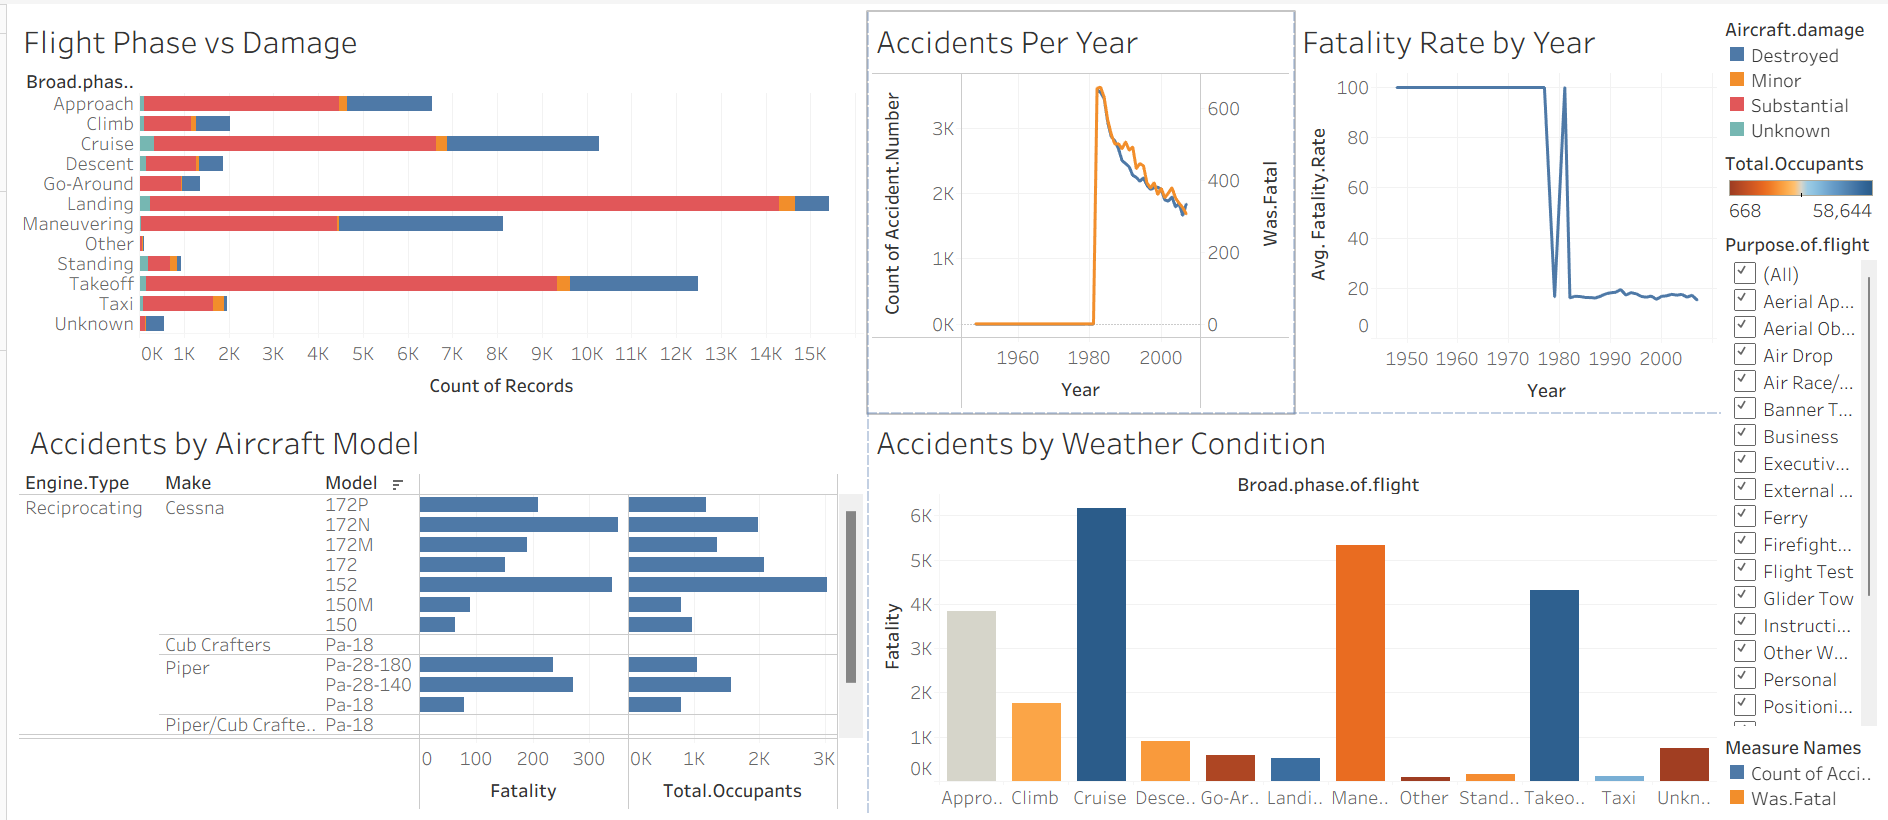

Layout of this report page (visuals, bound fields, positions):
{"tool":"tableau","page":{"name":"Overlook of my Data","canvas":[1000,1000],"units":"permille","ordinal":0},"visuals":[{"type":"worksheet","title":"Flight Phase vs Damage","mark":"Automatic","rows":["Broad.phase.of.flight"],"cols":["Calculation_2117536285228191744"],"box":[4.2,9.8,453.2,490.2]},{"type":"worksheet","title":"Accidents Per Year","mark":"Automatic","rows":["Accident.Number","Was.Fatal"],"cols":["Year"],"box":[457.5,9.8,226.6,490.2]},{"type":"worksheet","title":"Fatality Rate by Year","mark":"Automatic","rows":["Fatality.Rate"],"cols":["Year"],"box":[684.1,9.8,226.6,490.2]},{"type":"legend","title":"Flight Phase vs Damage","param":"[federated.1dlo7io1ed03wz16myot40yxtwt1].[none:Aircraft.damage:nk]","box":[910.7,9.8,85,163.8]},{"type":"legend","title":"Fatality at each Broad Phase of Flight","param":"[federated.1dlo7io1ed03wz16myot40yxtwt1].[sum:Total.Occupants:qk]","box":[910.7,173.6,85,33]},{"type":"filter","title":"Accidents Per Year","param":"[federated.1dlo7io1ed03wz16myot40yxtwt1].[none:Purpose.of.flight:nk]","box":[910.7,206.6,85,680.9]},{"type":"worksheet","title":" Accidents by Aircraft Model","mark":"Automatic","rows":["Engine.Type","Make","Model"],"cols":["Fatality","Total.Occupants"],"box":[4.2,500,453.2,490.2]},{"type":"worksheet","title":"Fatality at each Broad Phase of Flight","mark":"Shape","rows":["Fatality"],"cols":["Broad.phase.of.flight"],"box":[457.5,500,453.2,490.2]},{"type":"legend","title":"Accidents Per Year","param":"[federated.1dlo7io1ed03wz16myot40yxtwt1].[:Measure Names]","box":[910.7,887.5,85,102.7]}]}

Visuals, with their boxes on the dashboard's canvas, which has no fixed pixel size, in thousandths of its width and height (x1, y1, x2, y2). These are canvas units, not pixel positions in the 1888x820 screenshot, which may show the page scaled, cropped or inside an application window:
"Flight Phase vs Damage" worksheet: <bbox>4, 10, 457, 500</bbox>
"Accidents Per Year" worksheet: <bbox>458, 10, 684, 500</bbox>
"Fatality Rate by Year" worksheet: <bbox>684, 10, 911, 500</bbox>
"Flight Phase vs Damage" legend: <bbox>911, 10, 996, 174</bbox>
"Fatality at each Broad Phase of Flight" legend: <bbox>911, 174, 996, 207</bbox>
"Accidents Per Year" filter: <bbox>911, 207, 996, 888</bbox>
" Accidents by Aircraft Model" worksheet: <bbox>4, 500, 457, 990</bbox>
"Fatality at each Broad Phase of Flight" worksheet (Shape marks): <bbox>458, 500, 911, 990</bbox>
"Accidents Per Year" legend: <bbox>911, 888, 996, 990</bbox>
